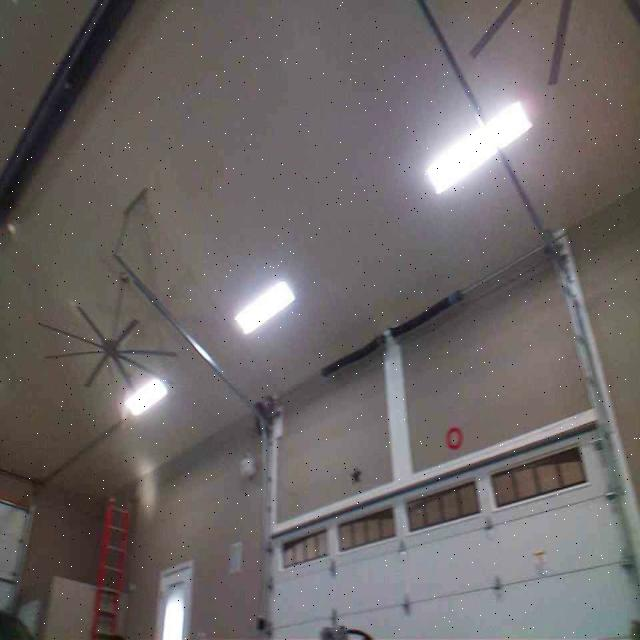ring_red: (444, 424, 462, 450)
star_black: (351, 466, 362, 482)
